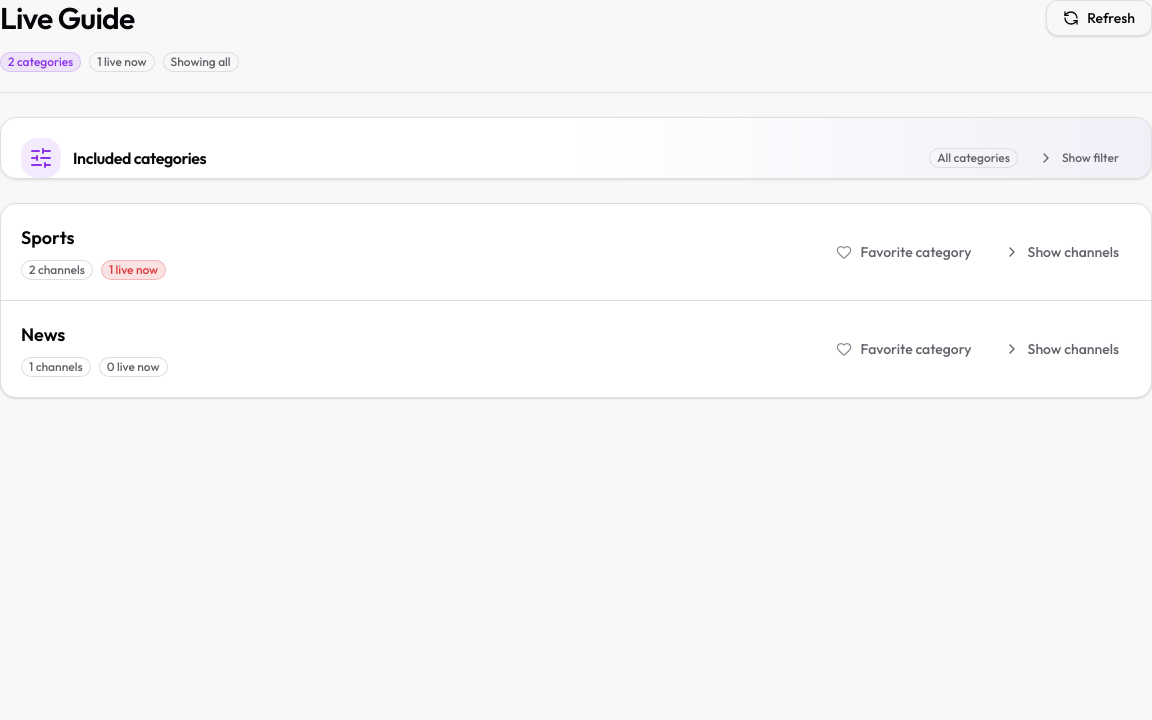
Test case: GuidePage › applies a custom filter only after pressing Enter
Click the button "Show filter": point(1078, 158) x1=1026 y1=142 x2=1131 y2=174
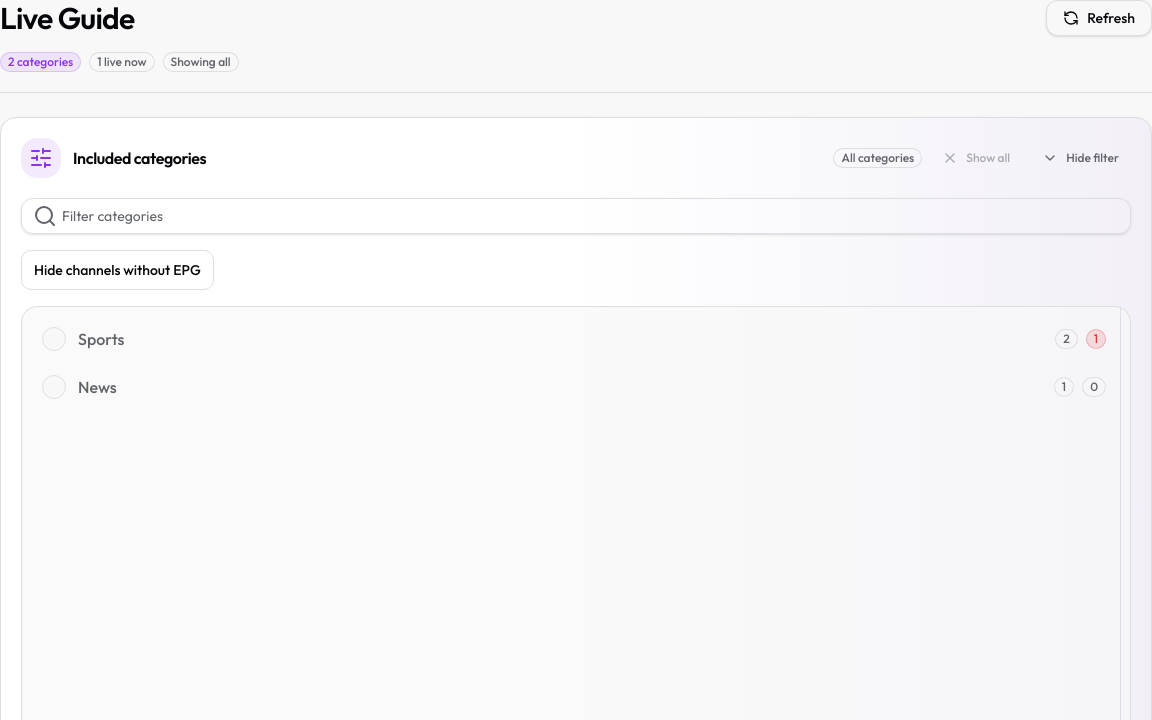
In the field with placeholder "Filter categories": point(576, 216) x1=21 y1=198 x2=1131 y2=234, type "news"
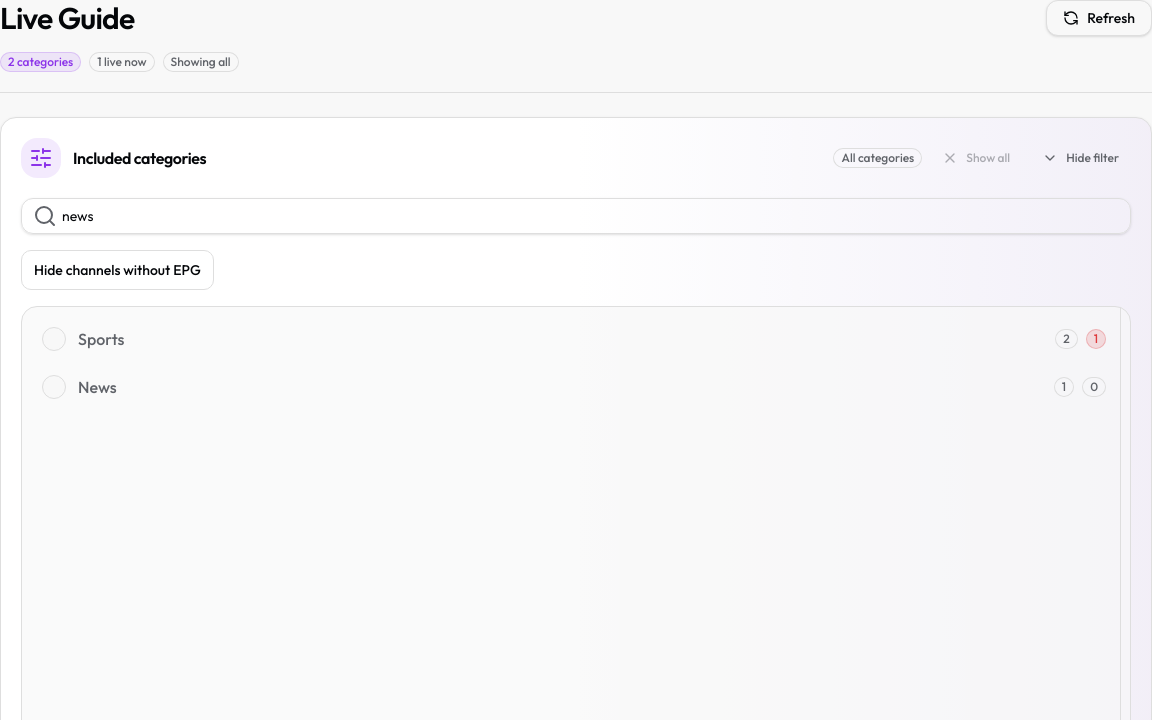
expect the button "Sports 2 1" is shown: met, box x1=30 y1=315 x2=1118 y2=363
expect the button "News 1 0" is shown: met, box x1=30 y1=363 x2=1118 y2=411
Press Enter in the field with placeholder "Filter categories", box x1=21 y1=198 x2=1131 y2=234
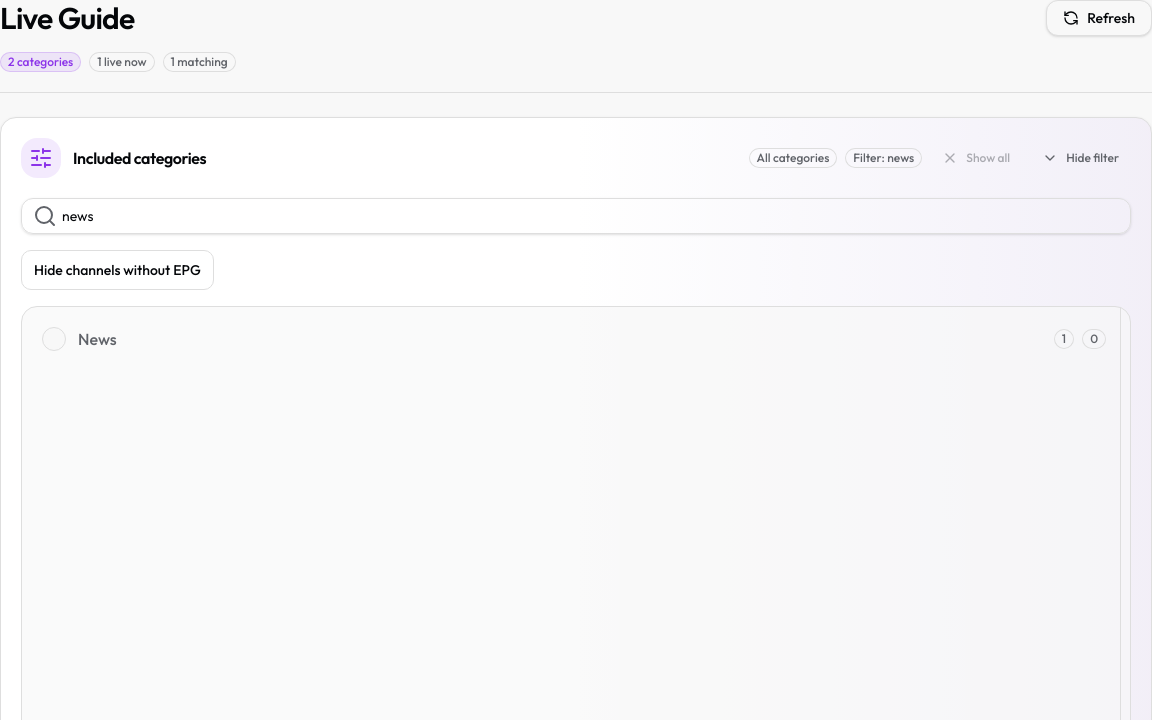
expect the button "News 1 0" is shown: met, box x1=30 y1=315 x2=1118 y2=363
expect the text "News" is shown: met, box x1=78 y1=327 x2=117 y2=351
expect the button "Sports" is gone: met
